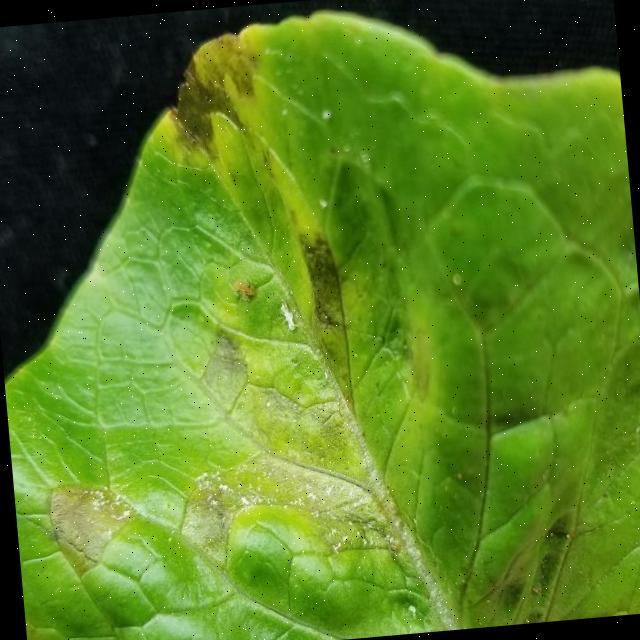Powdery_Mildew: (35, 375, 415, 605)
